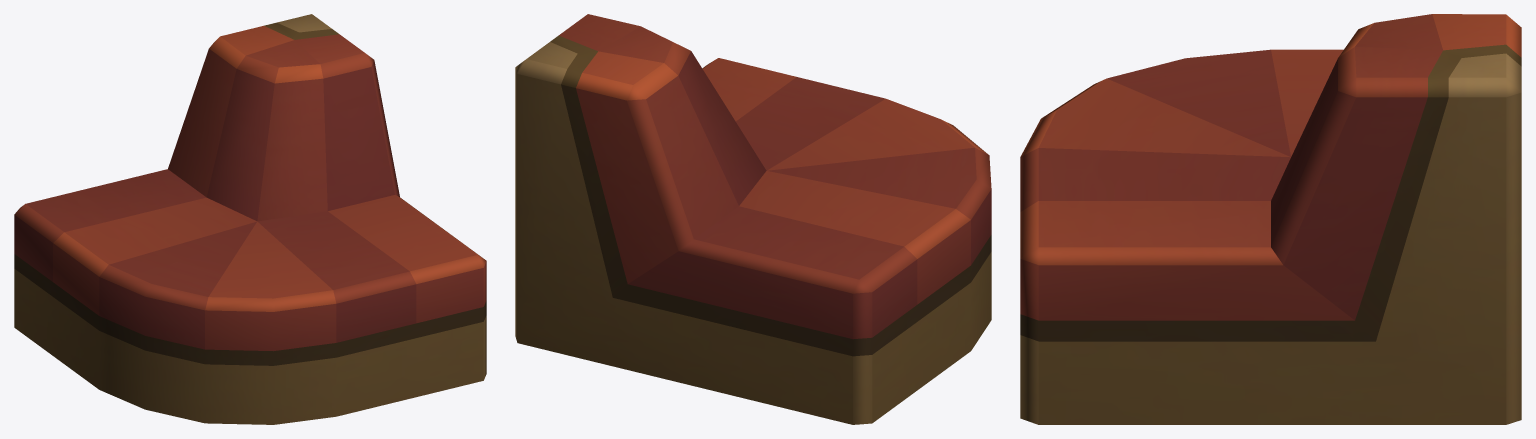
Rendered from chair_roof_corner_conv_red.fbx.
3 renders of one model, left to right at view 1: azimuth 30°, elevation 25°; view 2: azimuth 150°, elevation 25°; view 3: azimuth 270°, elevation 25°, orthographic. The views are drawn at different scales.
Parts seen in each view (by area): view 1: chair_roof_corner_conv_red; view 2: chair_roof_corner_conv_red; view 3: chair_roof_corner_conv_red.
Part boxes in pixels (x1,y1,x2,y2): chair_roof_corner_conv_red: (14, 14, 486, 424); chair_roof_corner_conv_red: (515, 14, 991, 424); chair_roof_corner_conv_red: (1020, 14, 1521, 424).
Size of the model in its own units: 100 by 75 by 100.
